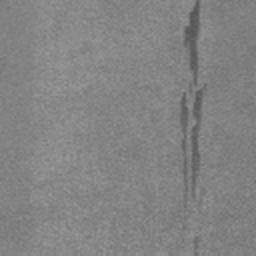Red iron sheet: (179, 83, 207, 211), (183, 0, 201, 87), (192, 236, 201, 256)
